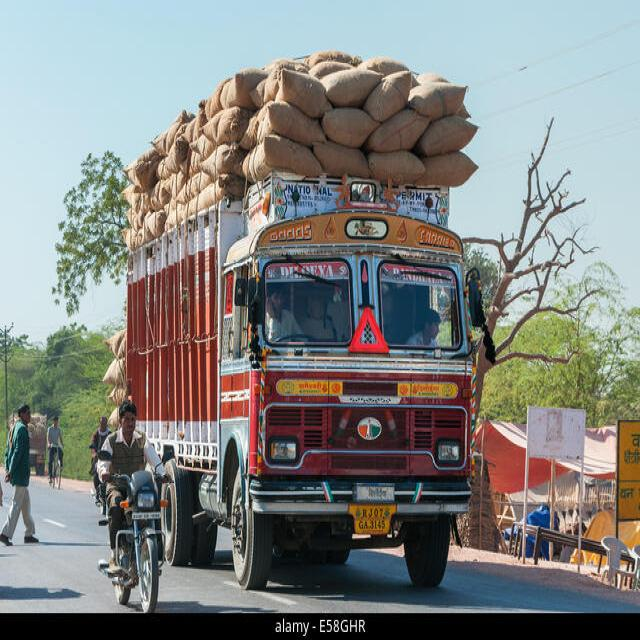goods: (124, 50, 476, 249)
truck: (130, 173, 474, 589)
